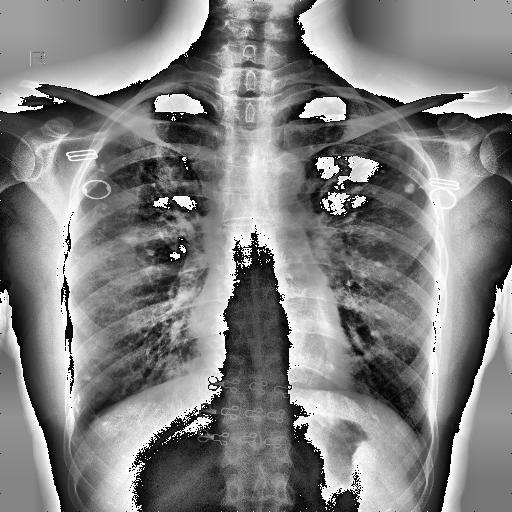13- Pulmonary fibrosis: (85, 158, 142, 260), (92, 163, 138, 265), (378, 133, 402, 181), (382, 128, 406, 170)
2- Calcification: (92, 163, 138, 265), (404, 181, 430, 193)
8- Nodule-Mass: (364, 164, 406, 336), (97, 160, 108, 172), (402, 182, 414, 192), (402, 184, 414, 194), (82, 374, 92, 382), (102, 202, 108, 210)
9- Other lesion: (85, 158, 142, 260), (378, 133, 402, 181), (402, 184, 414, 194)
